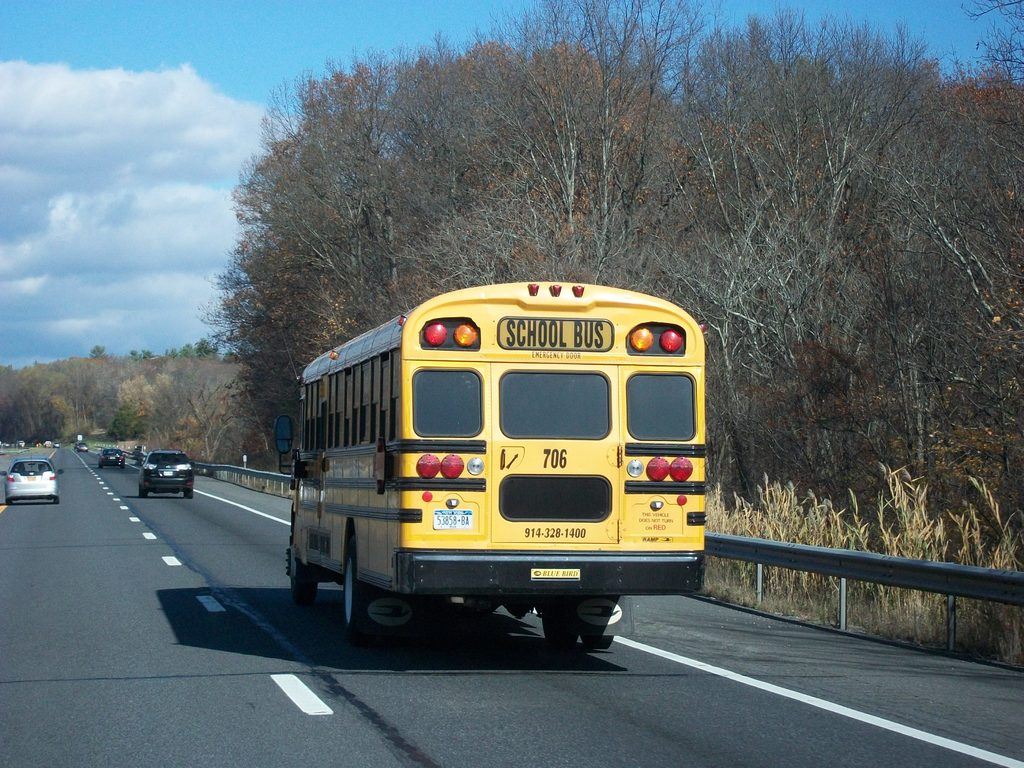Bus: (265, 277, 709, 639)
